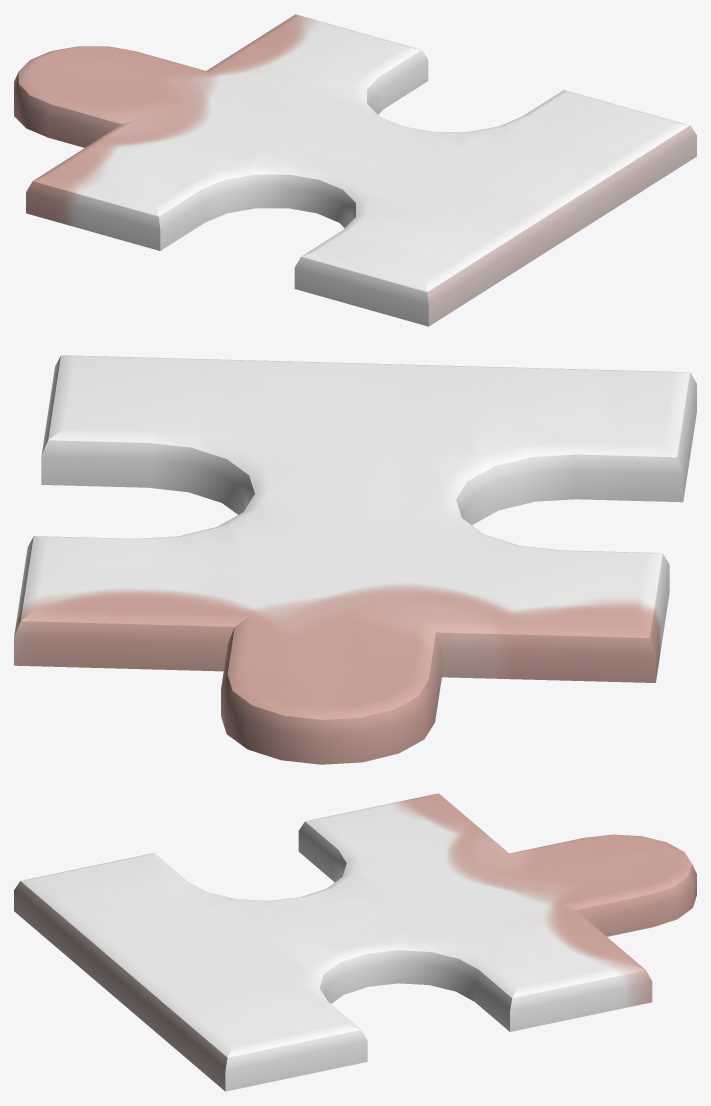
Rendered from PuzzlePiece8.fbx.
3 renders of one model, top to bottom at view 1: azimuth 30°, elevation 25°; view 2: azimuth 150°, elevation 25°; view 3: azimuth 270°, elevation 25°, orthographic. The views are drawn at different scales.
Visible parts, largest first — view 1: polySurface8; view 2: polySurface8; view 3: polySurface8.
Part boxes in pixels (x1,y1,x2,y2): polySurface8: (14, 14, 696, 326); polySurface8: (14, 355, 696, 764); polySurface8: (14, 793, 696, 1091).
Size of the model in its own units: 1.34 by 0.0821 by 1.43.
Materials: 2 (1 with a texture image).
